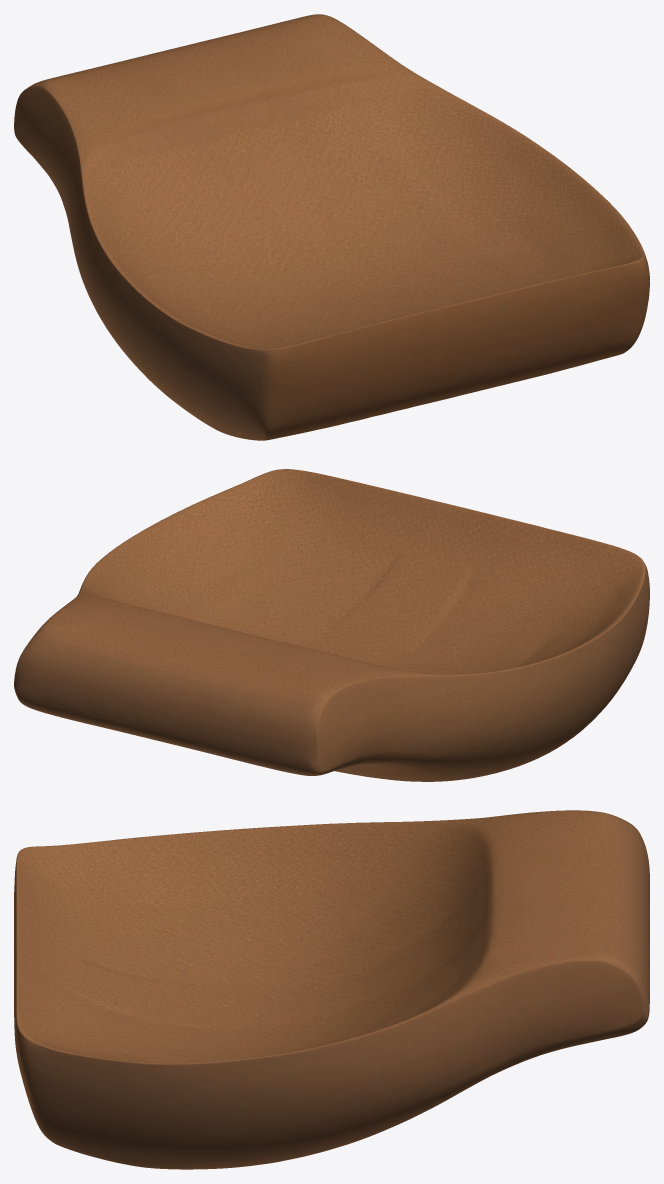
Rendered from wooden-spatula-rest.glb.
3 renders of one model, top to bottom at view 1: azimuth 30°, elevation 25°; view 2: azimuth 150°, elevation 25°; view 3: azimuth 270°, elevation 25°, orthographic. The views are drawn at different scales.
Bounding box in the file's own units: 1.67 × 0.6981 × 1.9.
Materials: 1 (1 with a texture image).
